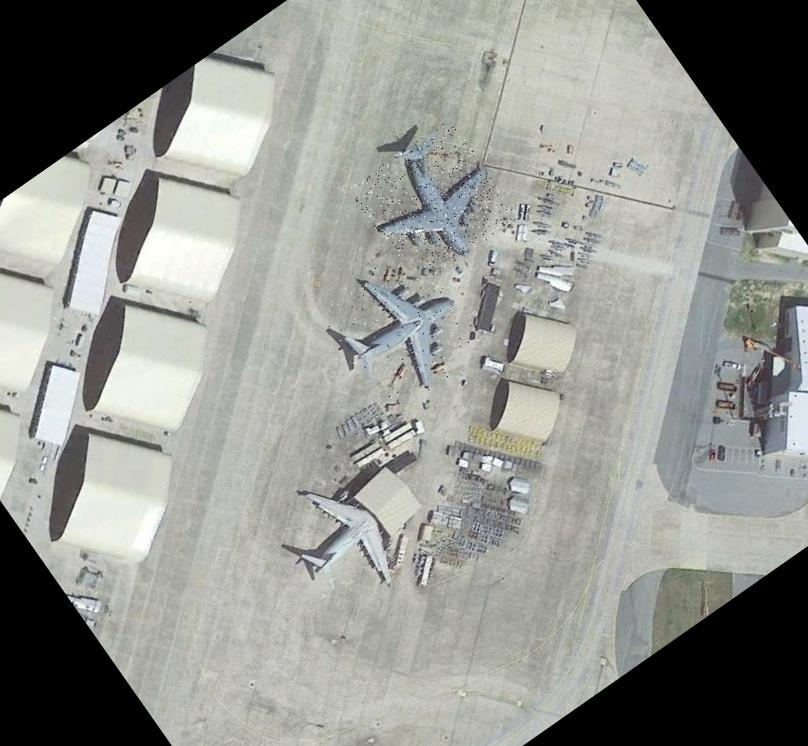A3: (314, 241, 489, 418), (348, 118, 520, 288)
